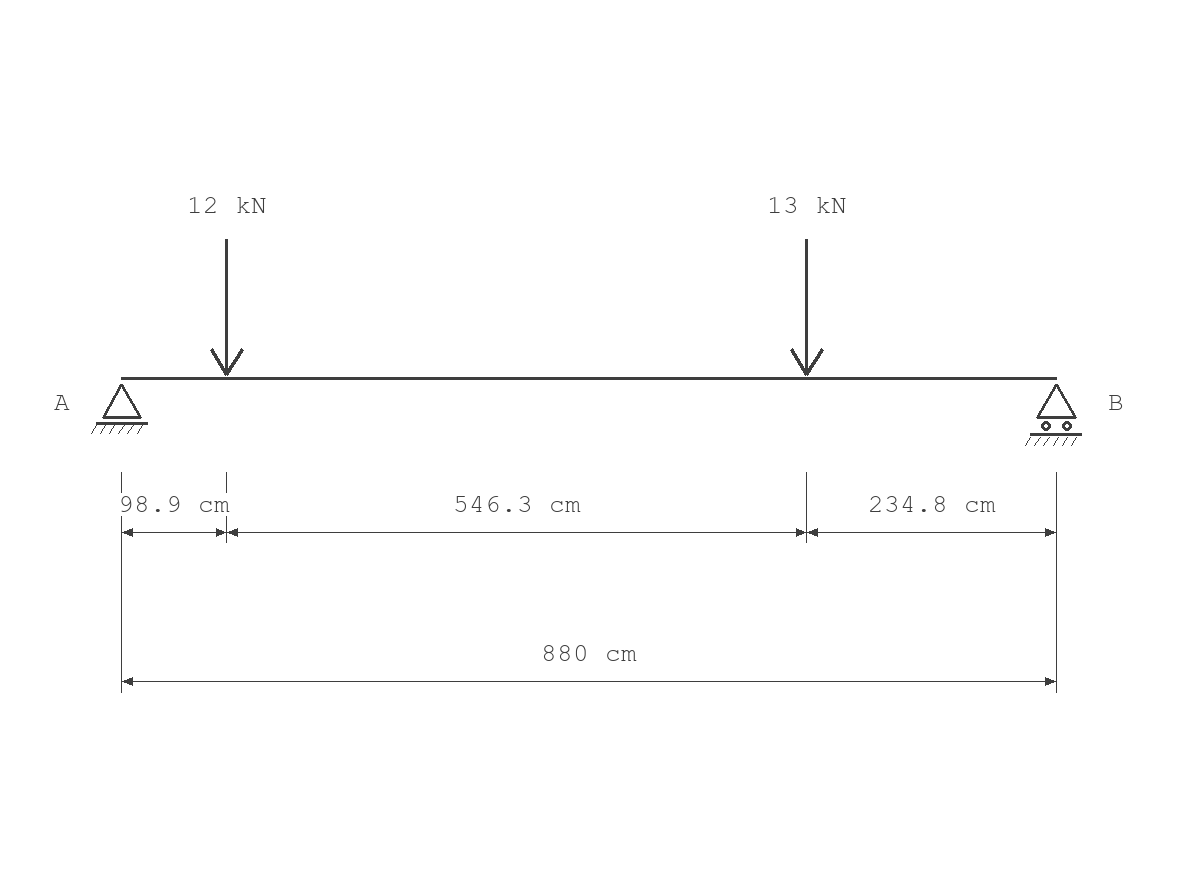pin_support: (91, 384, 148, 434)
point_load: (210, 239, 244, 376), (790, 239, 824, 376)
roller_support: (1025, 384, 1082, 446)
